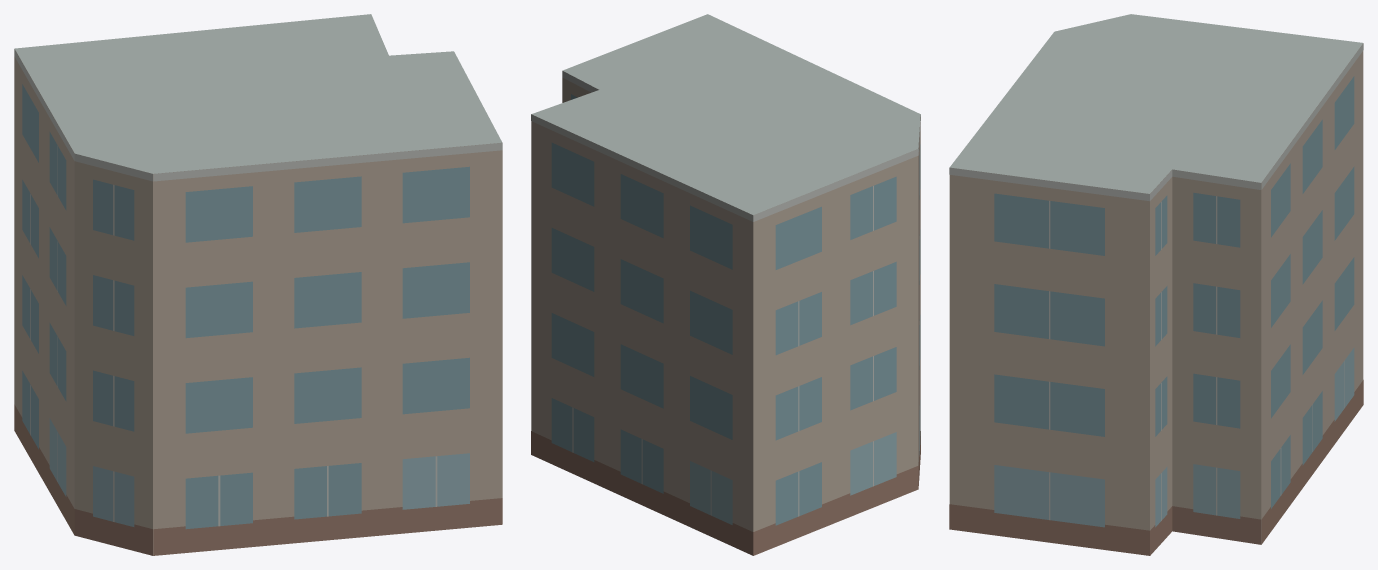
The model's file is survey-upis-32873484.glb.
3 views of the same model, side by side, from view 1: azimuth 30°, elevation 25°; view 2: azimuth 150°, elevation 25°; view 3: azimuth 270°, elevation 25° (orthographic). The views are drawn at different scales.
Parts seen in each view (by area): view 1: survey-upis-32873484.tmp; view 2: survey-upis-32873484.tmp; view 3: survey-upis-32873484.tmp.
Boxes of the visible parts, x1,y1,x2,y2 form: survey-upis-32873484.tmp: (14,14,502,555); survey-upis-32873484.tmp: (531,14,920,555); survey-upis-32873484.tmp: (949,14,1363,555).
Bounding box in the file's own units: 13.02 × 12.2 × 12.66.
